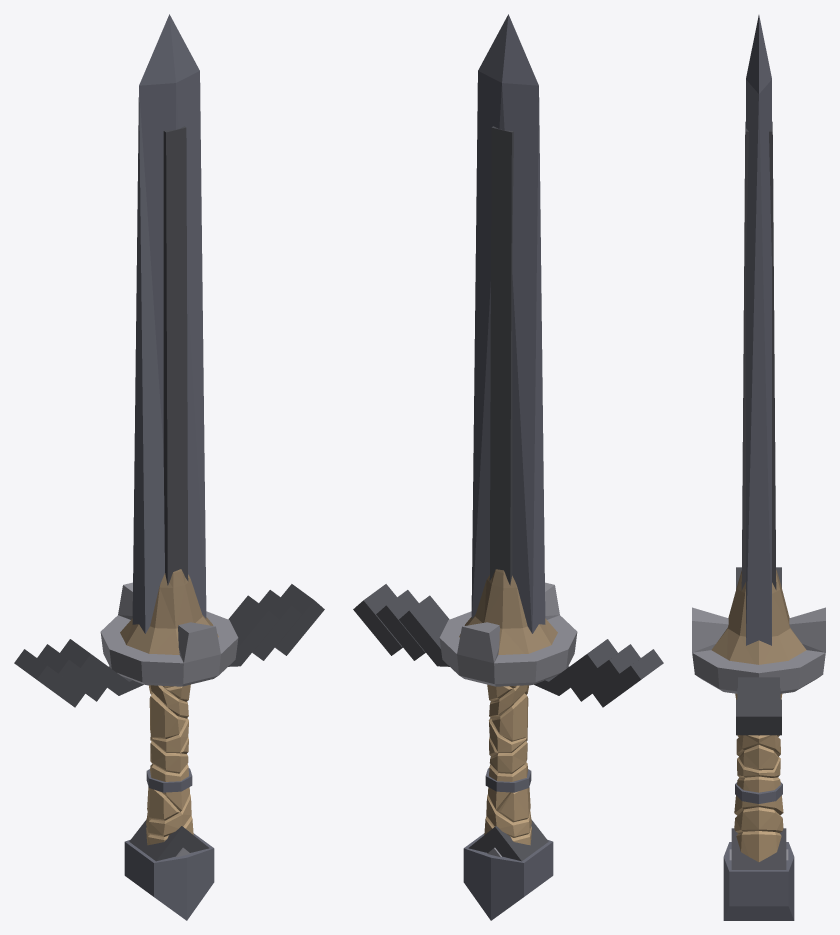
File: sword_2.glb
The picture shows the model from 3 angles, left to right: view 1: azimuth 30°, elevation 25°; view 2: azimuth 150°, elevation 25°; view 3: azimuth 270°, elevation 25°; orthographic projection.
Visible parts, largest first — view 1: sword_2; view 2: sword_2; view 3: sword_2.
Boxes of the visible parts, left/top/right/bottom form: sword_2: left=14, top=14, right=324, bottom=920; sword_2: left=353, top=14, right=663, bottom=920; sword_2: left=692, top=15, right=825, bottom=920.
Bounding box in the file's own units: 0.2793 × 0.828 × 0.1106.
Materials: 1 (1 with a texture image).
